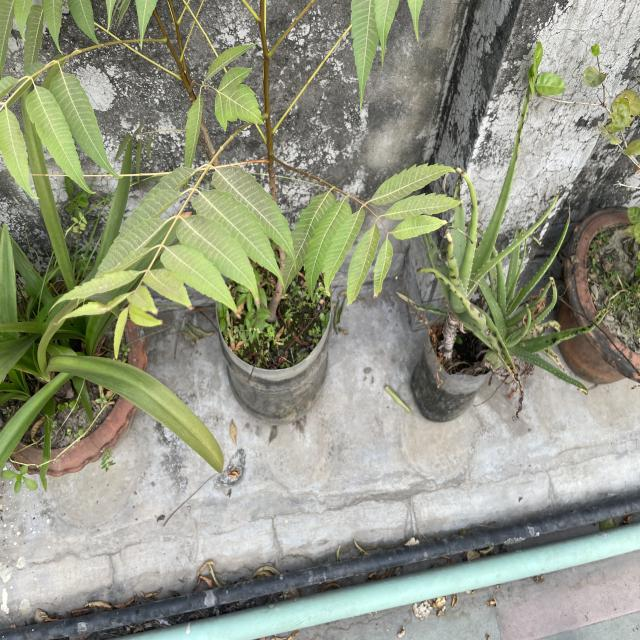Breeding Place: (0, 283, 144, 474), (216, 247, 332, 422), (576, 208, 640, 392), (413, 308, 495, 425)
